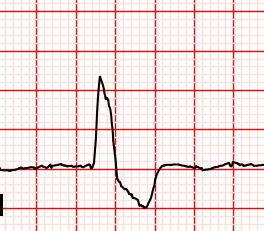ST Depression: (86, 153, 170, 212)
